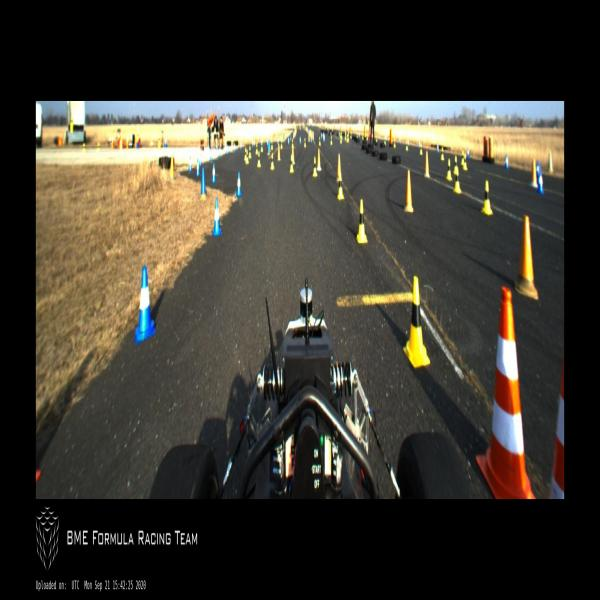blue_cone: (134, 268, 156, 346), (212, 198, 222, 236), (537, 170, 544, 193), (236, 172, 242, 198), (211, 162, 216, 183), (504, 153, 509, 170), (188, 156, 193, 172), (196, 159, 200, 176), (209, 148, 213, 162), (218, 146, 222, 159), (467, 147, 470, 159), (226, 142, 228, 155)
large_orange_cone: (475, 286, 536, 498)
yellow_cone: (403, 275, 430, 368), (356, 199, 368, 244), (481, 180, 493, 215), (453, 168, 462, 194), (337, 172, 344, 200), (312, 157, 318, 176), (447, 159, 452, 181), (463, 152, 468, 171), (454, 155, 458, 175), (290, 154, 294, 173), (270, 153, 274, 170), (257, 151, 261, 168), (248, 145, 252, 159), (419, 142, 423, 156), (244, 147, 247, 162), (246, 150, 249, 164), (441, 146, 444, 160), (405, 140, 408, 151), (462, 150, 464, 166), (256, 142, 258, 154), (261, 140, 263, 151), (271, 140, 273, 151), (304, 137, 306, 147), (330, 136, 332, 146), (318, 137, 320, 146), (280, 140, 282, 148)
